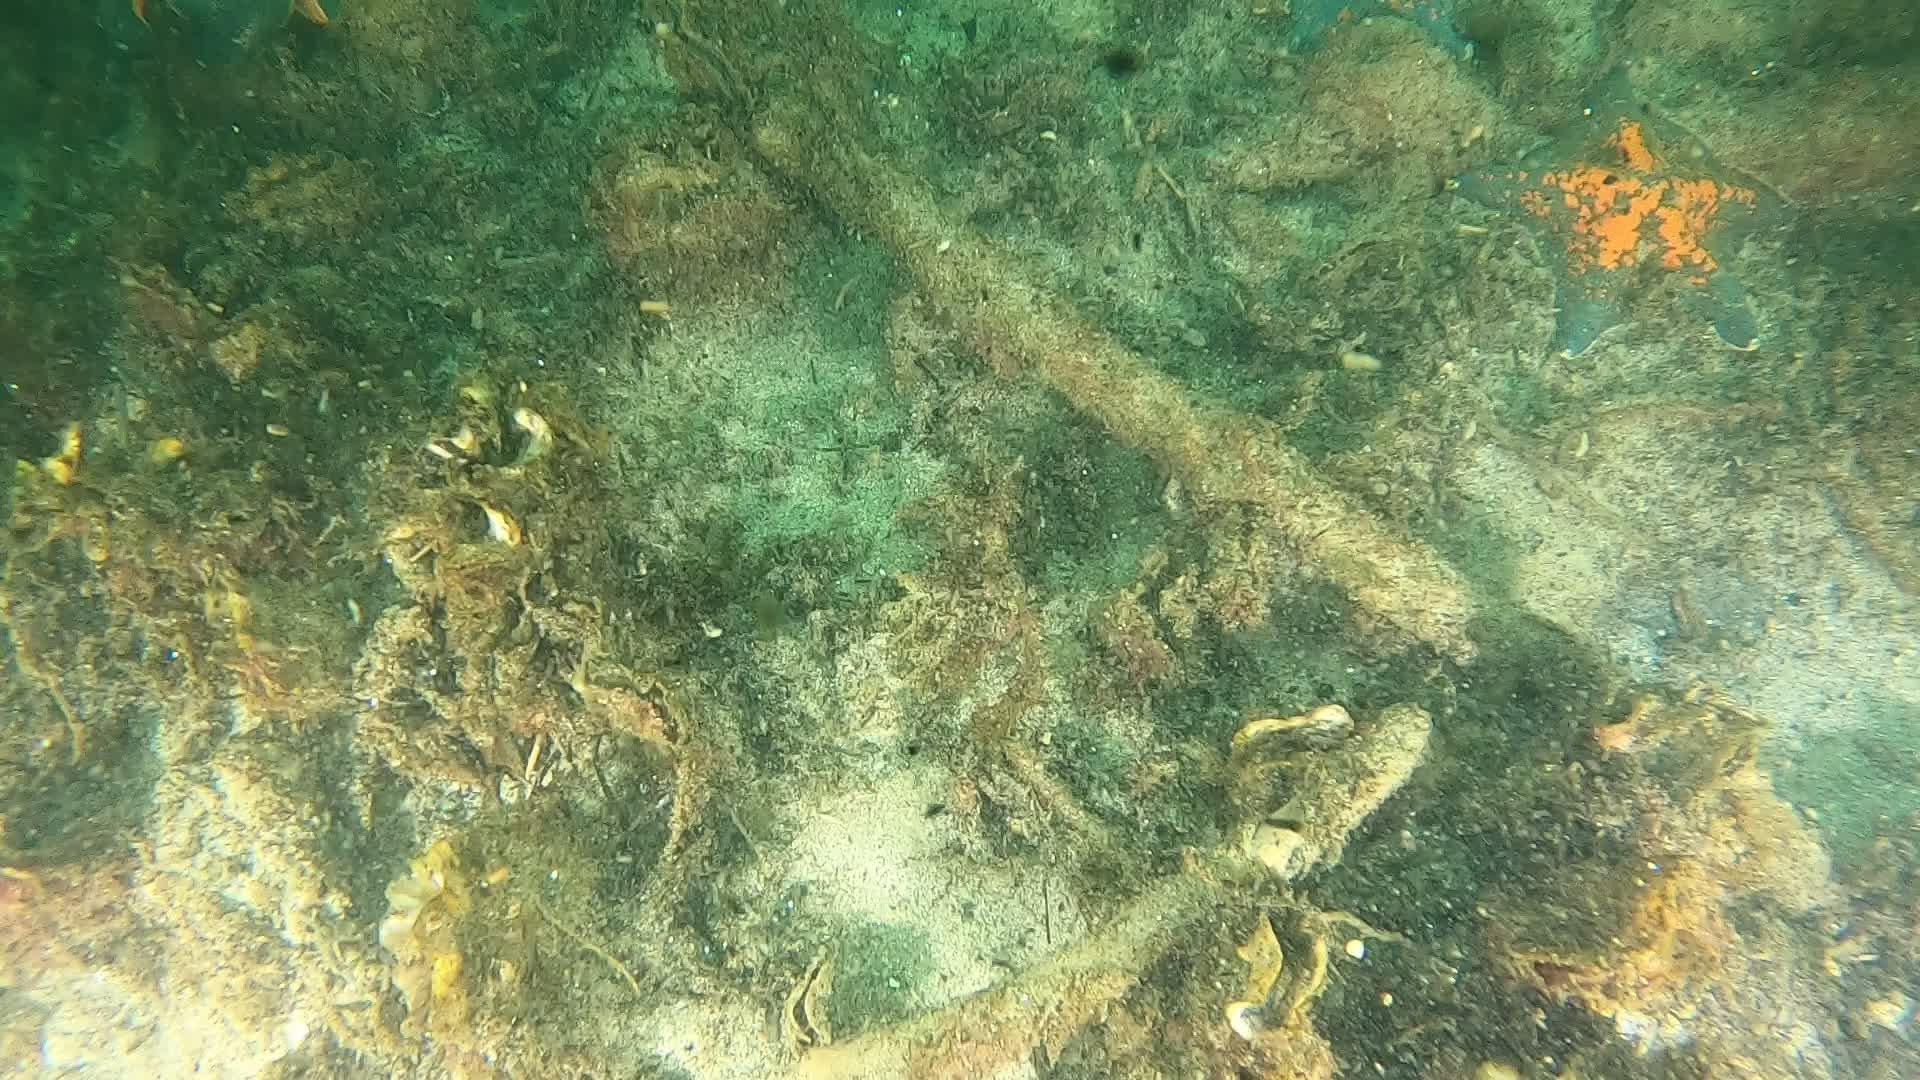wood: (750, 84, 1482, 669), (793, 703, 1431, 1080)
